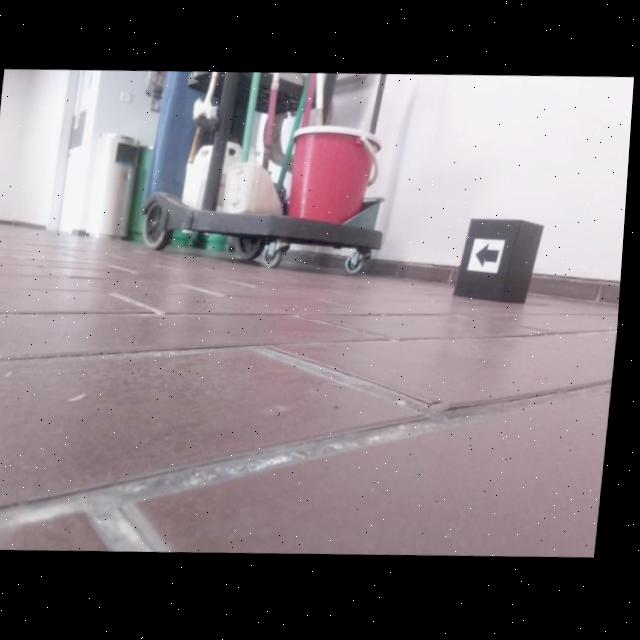LEFT: (478, 244, 503, 271)
